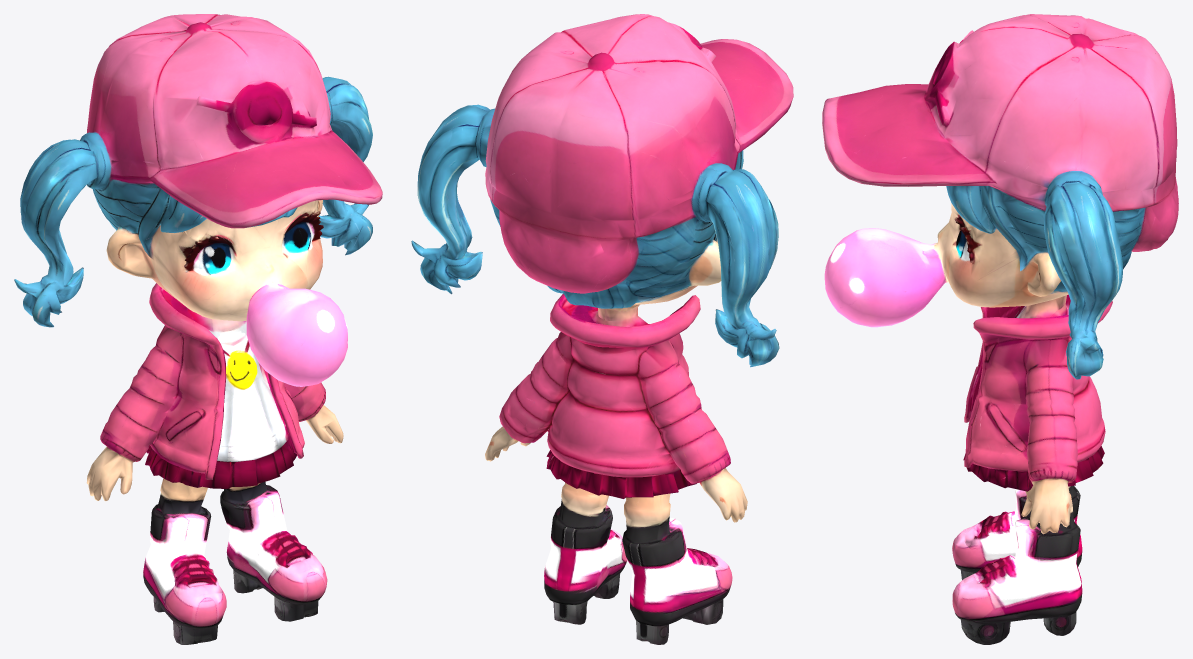
The model's file is Pop.glb.
3 views of the same model, side by side, from view 1: azimuth 30°, elevation 25°; view 2: azimuth 150°, elevation 25°; view 3: azimuth 270°, elevation 25° (orthographic). The views are drawn at different scales.
Bounding box in the file's own units: 1.23 × 1.91 × 1.06.
1 material, 1 textured.
